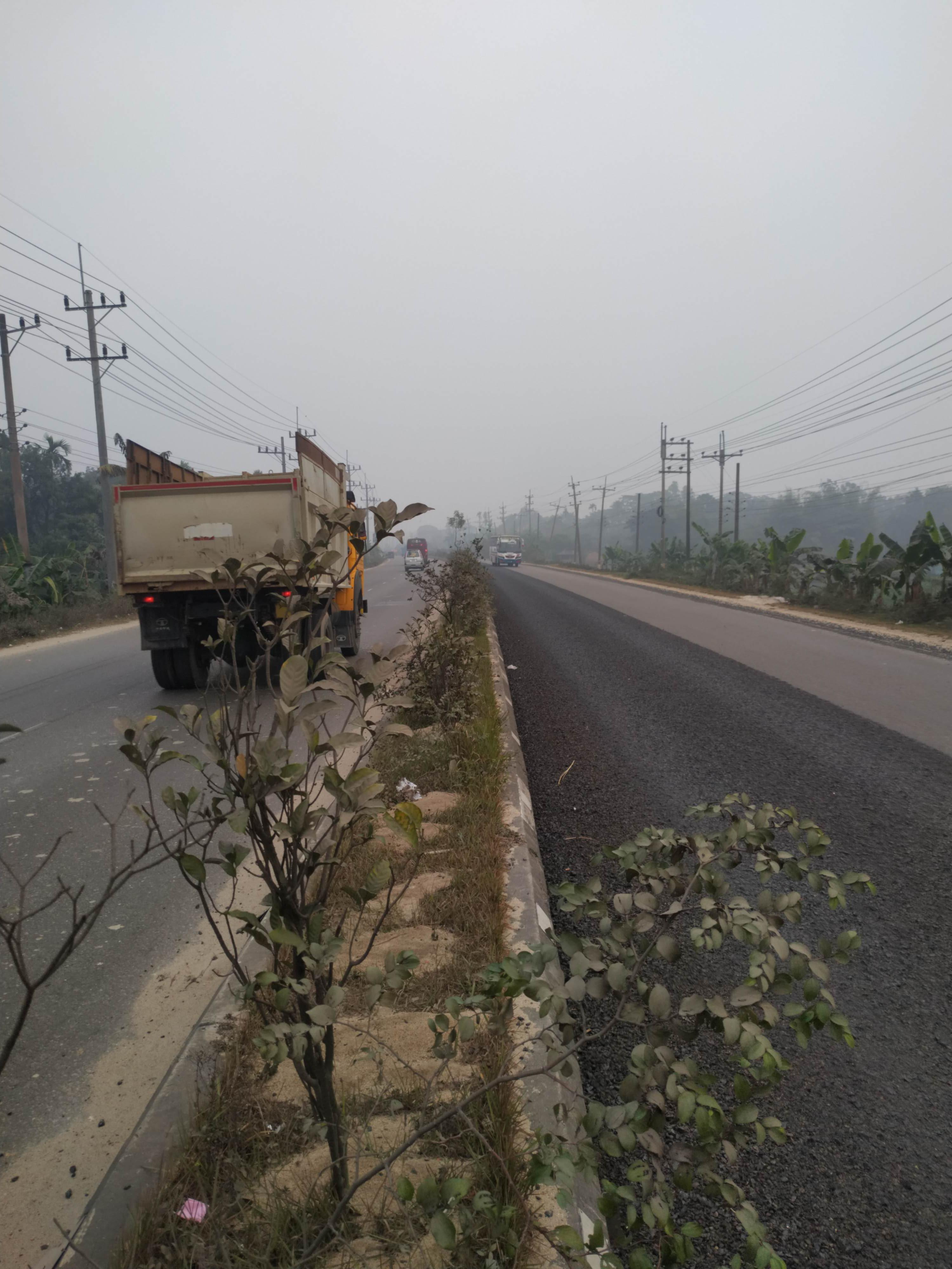Bus: (481, 522, 541, 577)
Car: (399, 542, 432, 576)
Truck: (86, 416, 390, 686)
